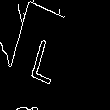L_N: (36, 26, 74, 84)
